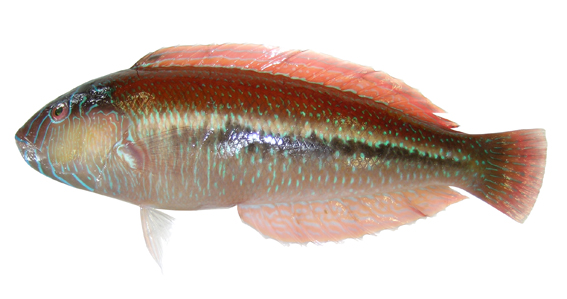fish: (15, 43, 548, 271)
